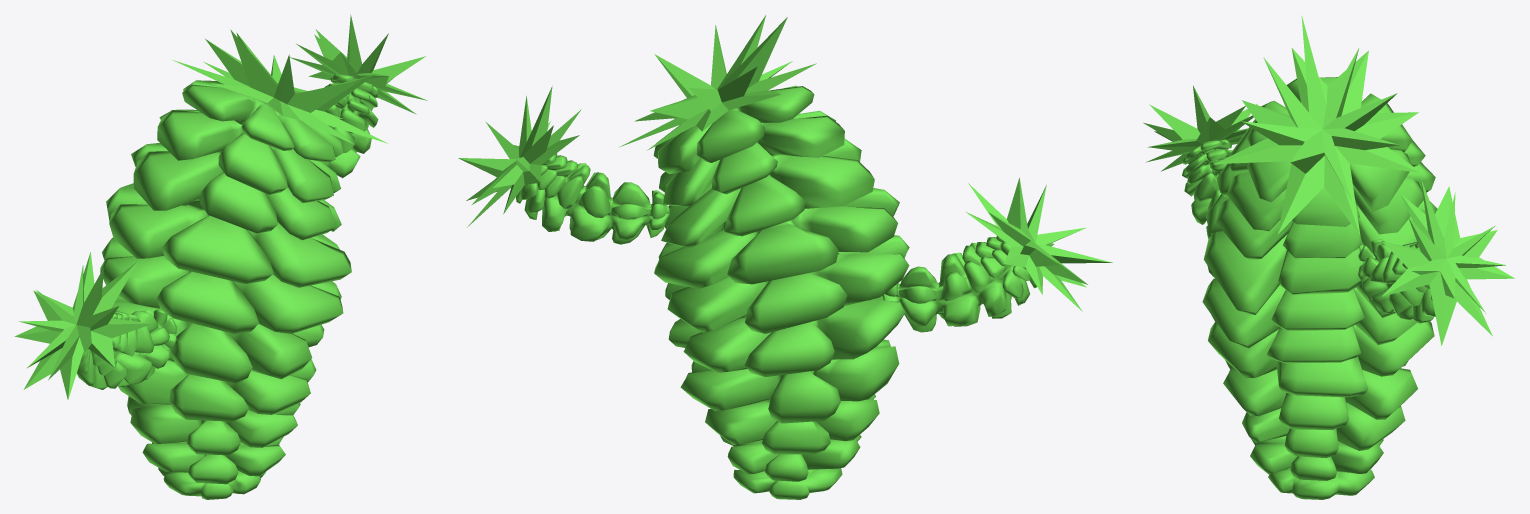
The model's file is CactusGrandeUVsFIX.fbx.
The picture shows the model from 3 angles, left to right: view 1: azimuth 30°, elevation 25°; view 2: azimuth 150°, elevation 25°; view 3: azimuth 270°, elevation 25°; orthographic projection. The views are drawn at different scales.
Parts seen in each view (by area): view 1: CactusGrande; view 2: CactusGrande; view 3: CactusGrande.
Boxes of the visible parts, x1,y1,x2,y2 form: CactusGrande: (14,14,427,499); CactusGrande: (458,15,1112,499); CactusGrande: (1143,15,1514,499).
Size of the model in its own units: 310 by 268 by 190.
